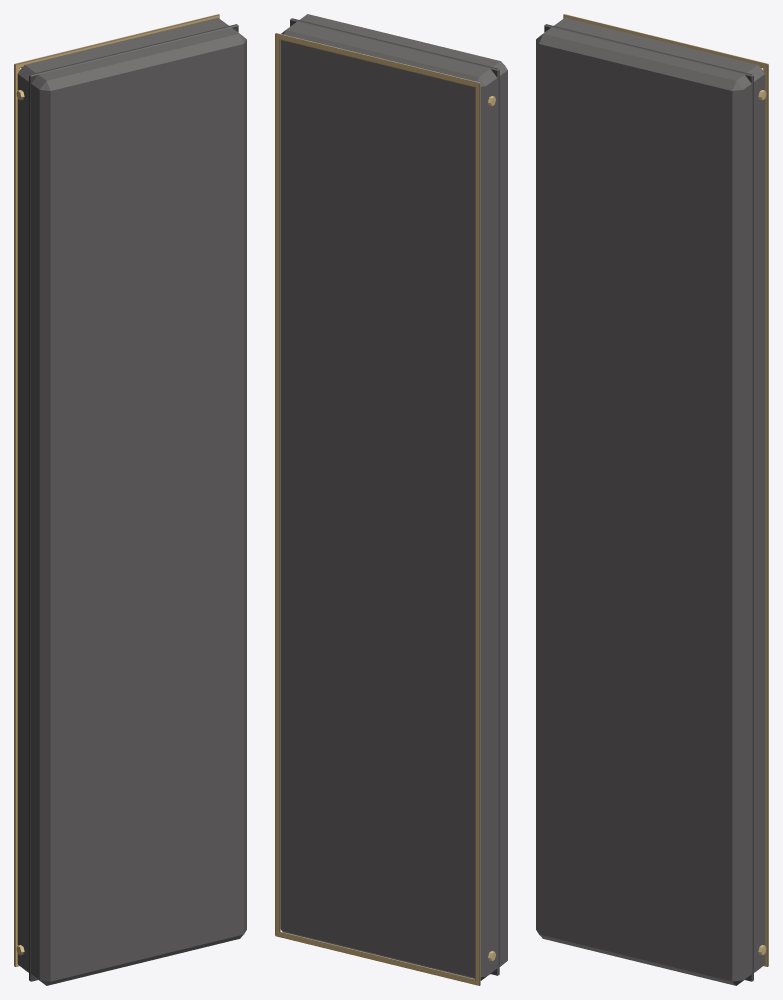
The model's file is Housing_1x4.fbx.
3 views of the same model, side by side, from view 1: azimuth 30°, elevation 25°; view 2: azimuth 150°, elevation 25°; view 3: azimuth 330°, elevation 25° (orthographic).
Parts seen in each view (by area): view 1: Housing_1x4; view 2: Housing_1x4; view 3: Housing_1x4.
Part boxes in pixels (left/top/right/bottom): Housing_1x4: left=14, top=14, right=246, bottom=985; Housing_1x4: left=275, top=14, right=507, bottom=985; Housing_1x4: left=536, top=14, right=768, bottom=985.
Bounding box in the file's own units: 1.07 × 4.35 × 0.27.
